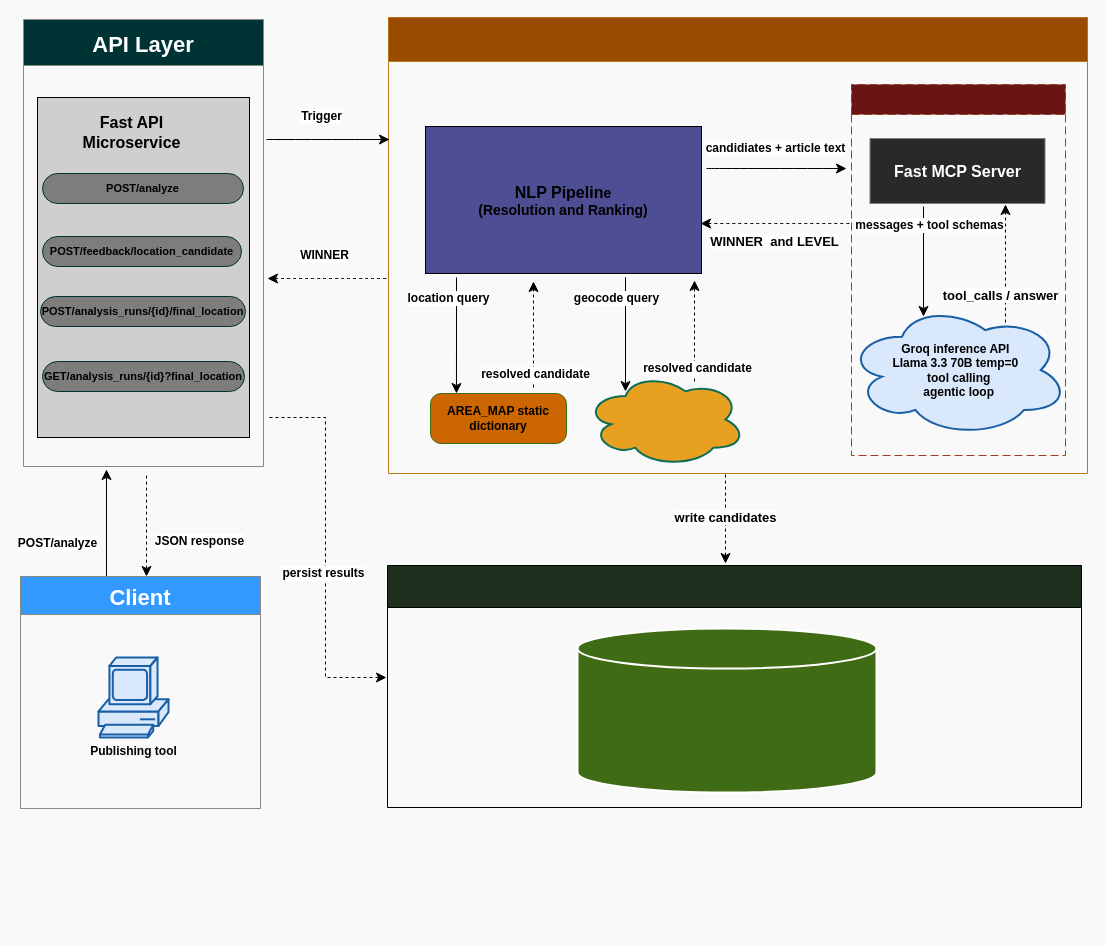
Some shapes in this 1105 by 946 pixel diagram are drawn without their labels. Each missing label, with the box of its shape:
Data Storage Layer: (386, 564, 1082, 808)
Geoapify API Geocoding service: (584, 371, 746, 467)
MCP Correction Layer: (850, 84, 1066, 456)
NLP Processing Layer: (388, 16, 1088, 474)
PostgreSQL analysis_runs candidates feedback final_locations: (576, 627, 877, 793)
